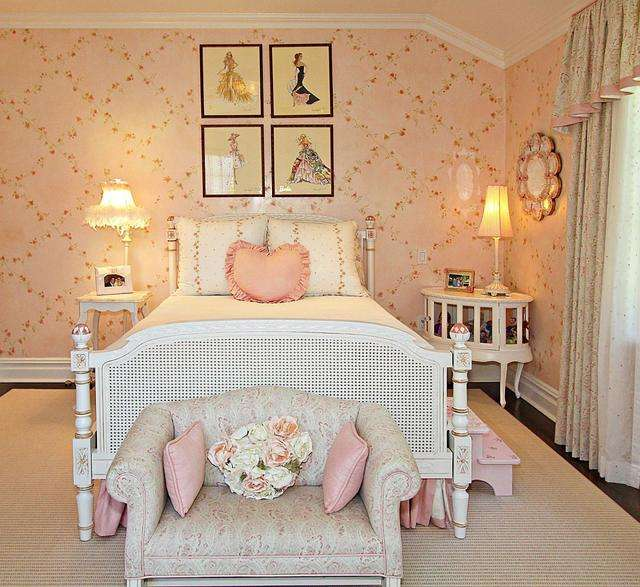床: (100, 268, 446, 542)
枕头: (168, 213, 362, 300), (319, 418, 372, 520), (160, 420, 212, 516)
灯: (88, 173, 144, 294), (479, 183, 524, 293)
